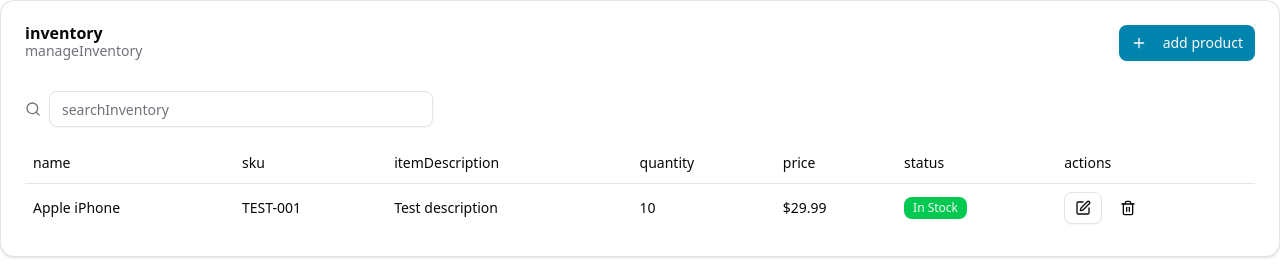
Scenario: InventoryTable Component › should show no results when search returns empty
This screenshot has width=1280, height=275.
# Search for something that doesn't exist
Type "Nonexistent Item" into the field with placeholder "searchInventory".
click(241, 109); type("Nonexistent Item")  # box [49,91,433,127]
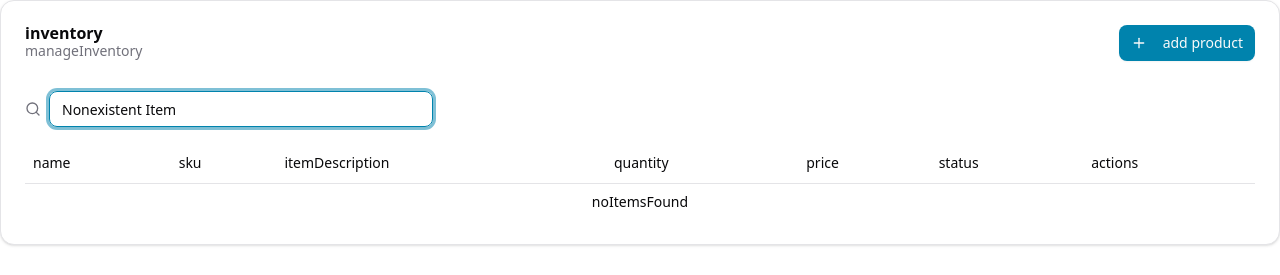
expect the text "noItemsFound" is shown: met, box [25,183,1255,220]
